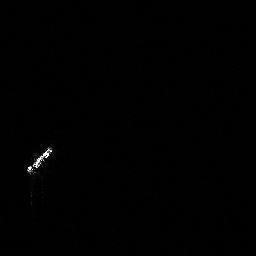ship: (22, 141, 57, 178)
